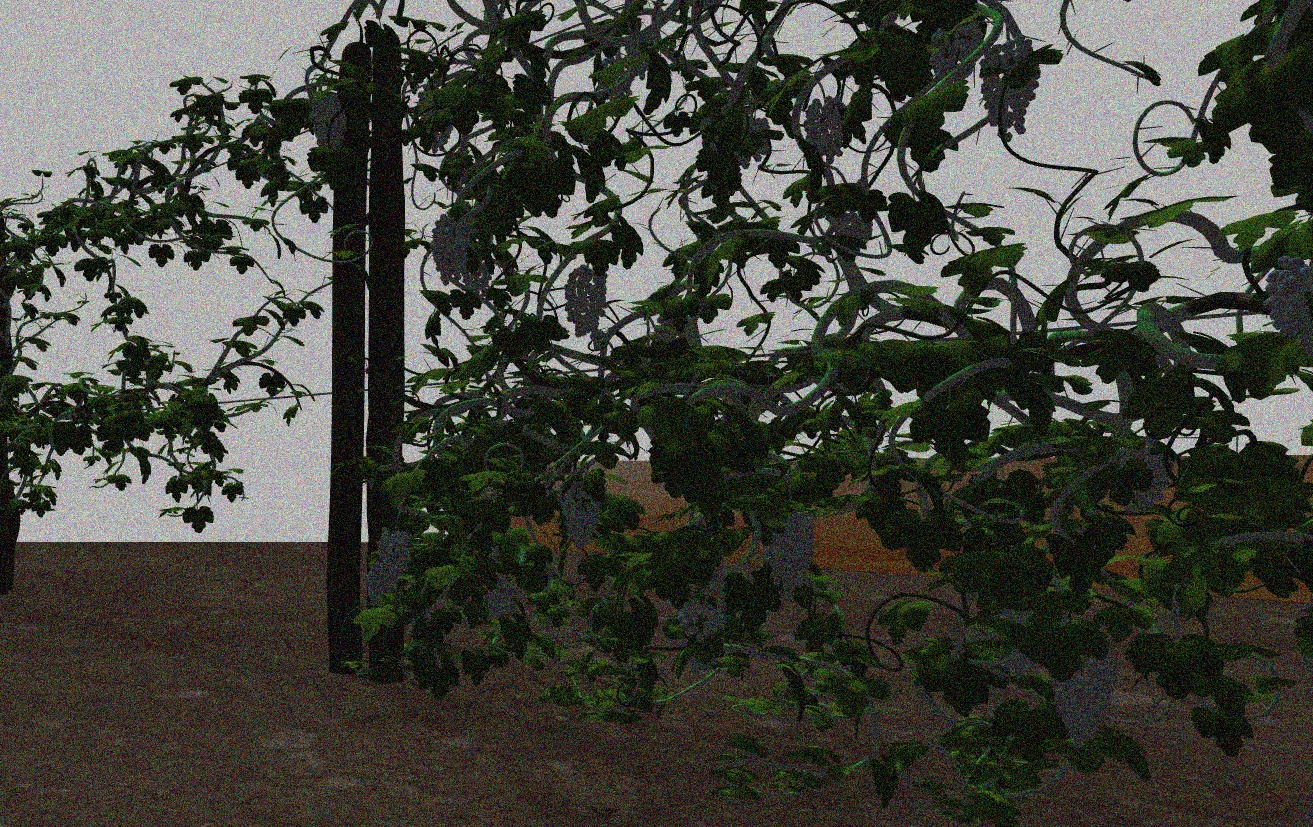grape: (1051, 644, 1119, 750), (980, 38, 1038, 141), (1263, 253, 1311, 352), (765, 510, 818, 598), (927, 20, 983, 88), (429, 210, 475, 282), (563, 265, 609, 337), (559, 483, 604, 550), (804, 97, 847, 164), (680, 594, 729, 644), (309, 95, 348, 150), (376, 526, 413, 580), (481, 576, 528, 616), (366, 564, 398, 607)
